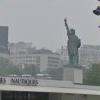Statue: (52, 10, 80, 71)
